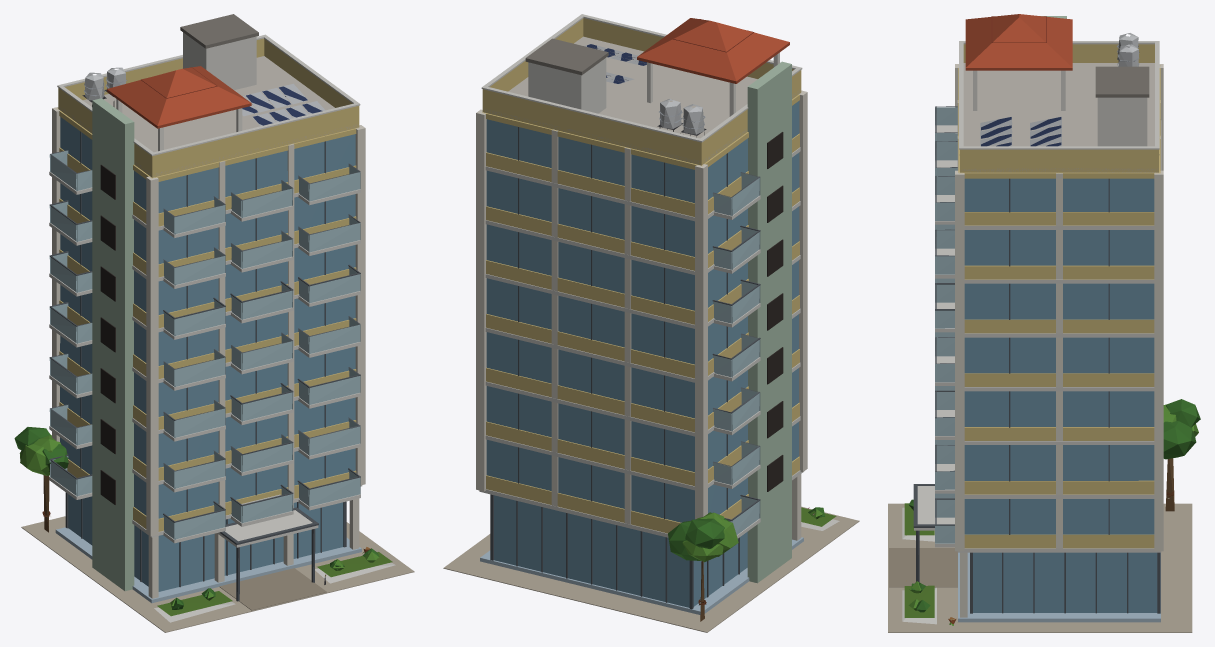
File: home_4.glb
The picture shows the model from 3 angles, left to right: view 1: azimuth 30°, elevation 25°; view 2: azimuth 150°, elevation 25°; view 3: azimuth 270°, elevation 25°; orthographic projection. The views are drawn at different scales.
Parts seen in each view (by area): view 1: body, windows; view 2: body, windows; view 3: body.
Boxes of the visible parts, <box> form: body: <box>14,14,414,632</box>; windows: <box>100,164,325,576</box>; body: <box>443,14,859,632</box>; windows: <box>767,132,783,491</box>; body: <box>888,14,1200,632</box>.
Bounding box in the file's own units: 16.67 × 30.69 × 16.34.
